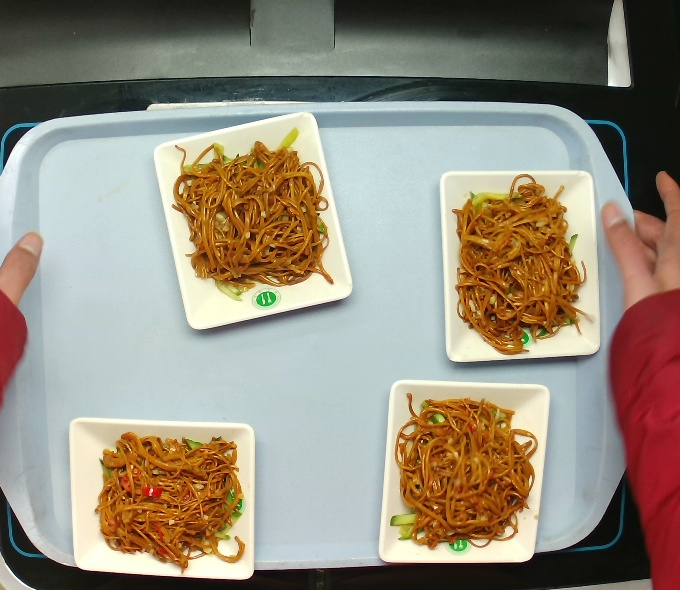wcq-LiangBanChongCaoHua: (171, 135, 347, 302), (447, 170, 599, 356), (382, 384, 545, 557), (86, 423, 252, 578)
